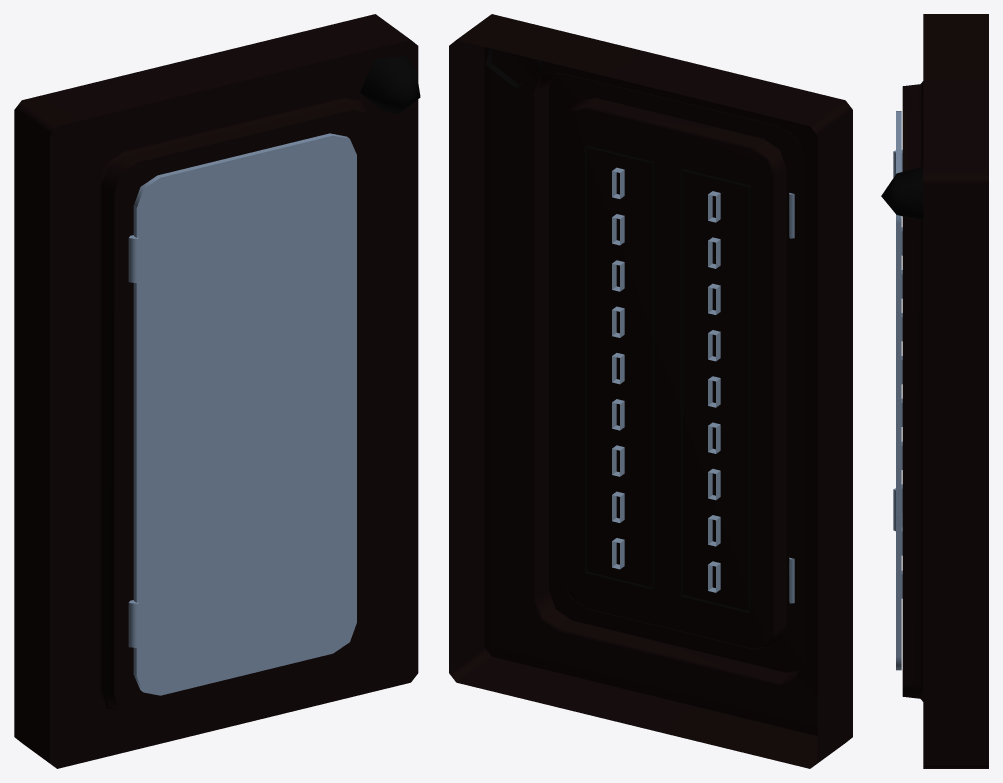
The model's file is SM_BreakerBox_00.fbx.
The picture shows the model from 3 angles, left to right: view 1: azimuth 30°, elevation 25°; view 2: azimuth 150°, elevation 25°; view 3: azimuth 270°, elevation 25°; orthographic projection. The views are drawn at different scales.
Visible parts, largest first — view 1: BreakerBox_00, Door; view 2: BreakerBox_00, Switches_00, Switches_01, Switches_03, Switches_02; view 3: BreakerBox_00, Door, Switches_03.
Boxes of the visible parts, x1,y1,x2,y2 form: BreakerBox_00: (14, 14, 420, 768); Door: (128, 133, 356, 695); BreakerBox_00: (449, 14, 852, 768); Switches_00: (708, 191, 720, 407); Switches_01: (708, 422, 720, 592); Switches_03: (612, 306, 624, 476); Switches_02: (612, 167, 624, 291); BreakerBox_00: (881, 14, 988, 768); Door: (893, 111, 902, 670); Switches_03: (901, 356, 902, 512).
Size of the model in its own units: 30 by 50 by 8.2.
